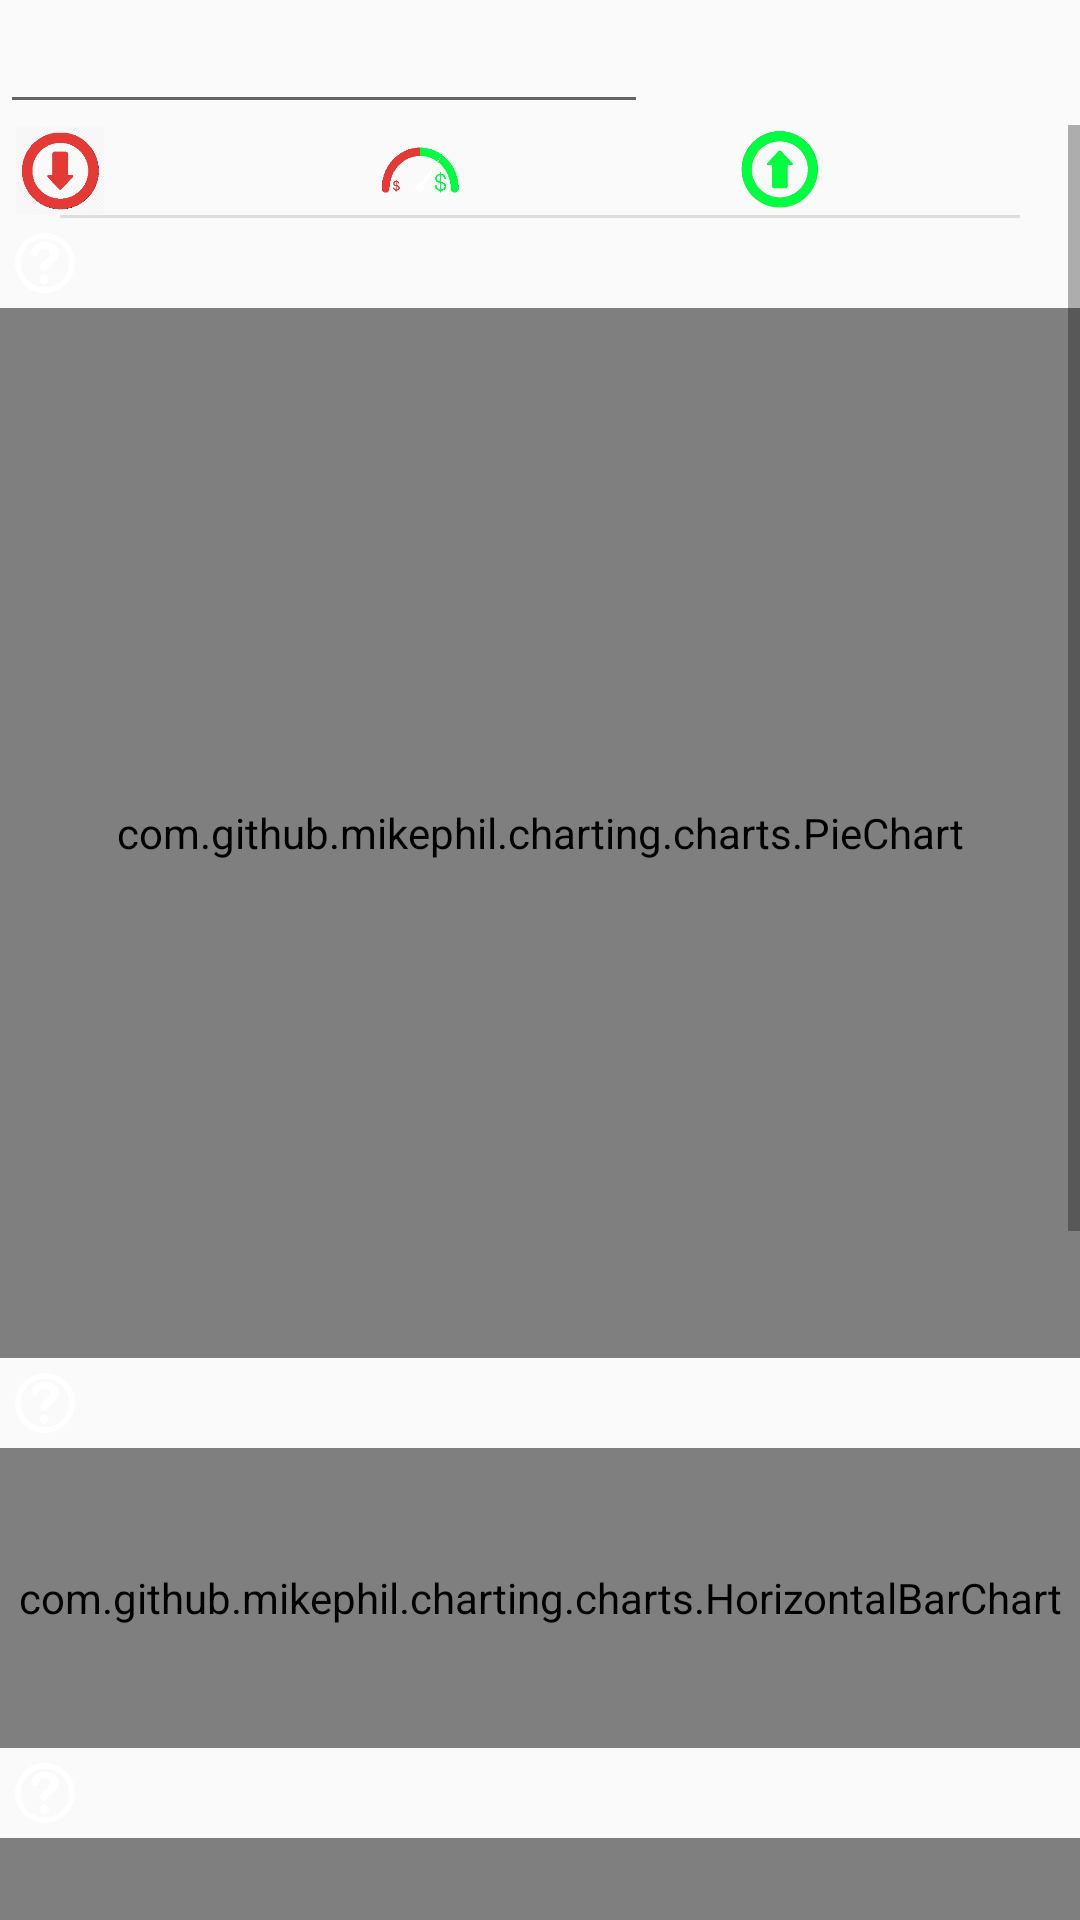

Where to tap for icons on this 1080px x 1920px app screen, as (x=x, y=y):
ie progres: (x=420, y=170)
income: (x=779, y=169)
outcome: (x=60, y=171)
